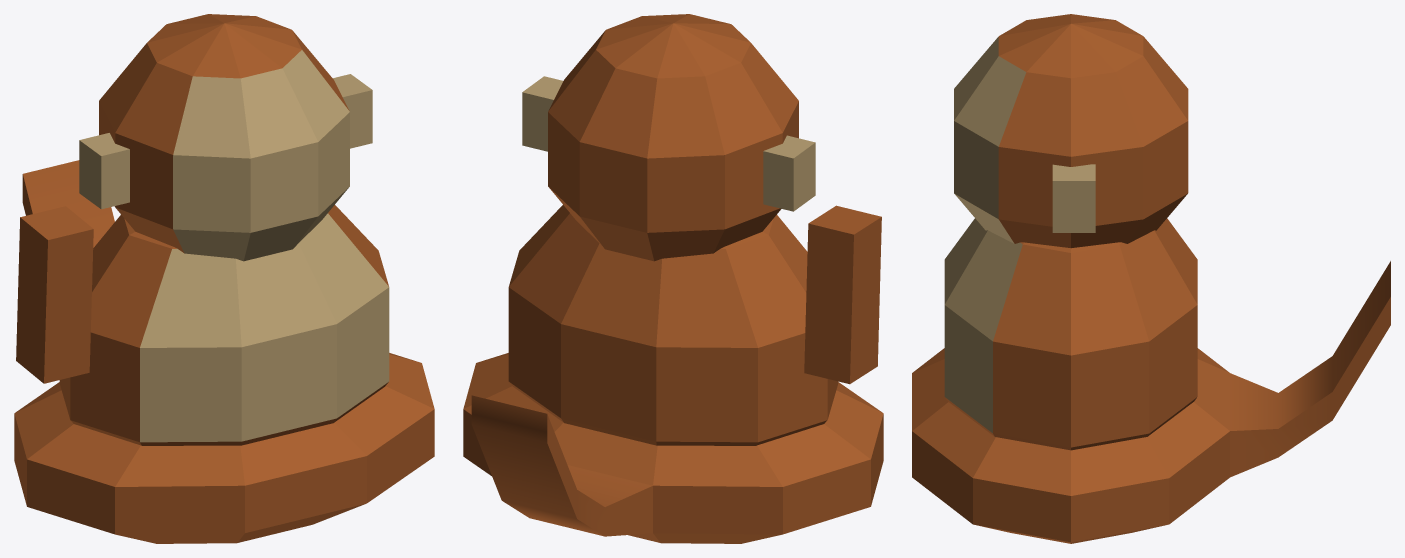
File: Nature_Monkey_STILL.fbx
3 views of the same model, side by side, from view 1: azimuth 30°, elevation 25°; view 2: azimuth 150°, elevation 25°; view 3: azimuth 270°, elevation 25° (orthographic). The views are drawn at different scales.
Parts seen in each view (by area): view 1: pSphere42; view 2: pSphere42; view 3: pSphere42.
Boxes of the visible parts, x1=… form: pSphere42: x1=14, y1=14, x2=434, y2=543; pSphere42: x1=463, y1=14, x2=883, y2=543; pSphere42: x1=912, y1=14, x2=1390, y2=543.
Bounding box in the file's own units: 179 × 212 × 193.
